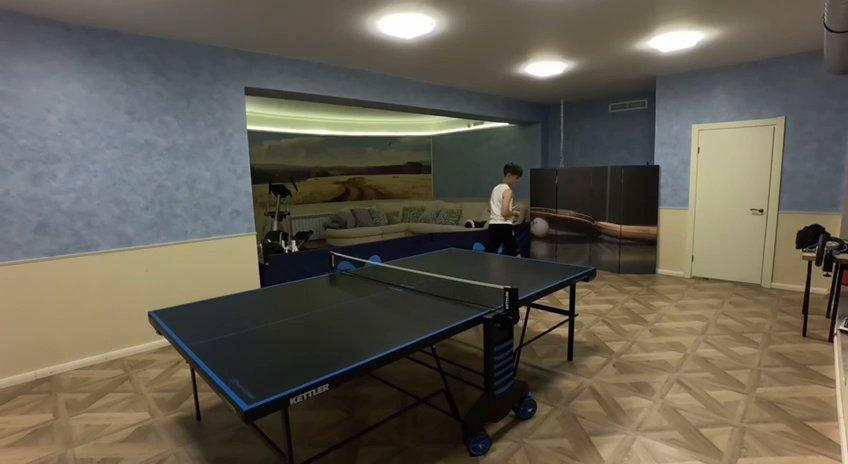Net: (330, 251, 517, 317)
Player1: (487, 162, 523, 257)
Table: (149, 245, 594, 409)
